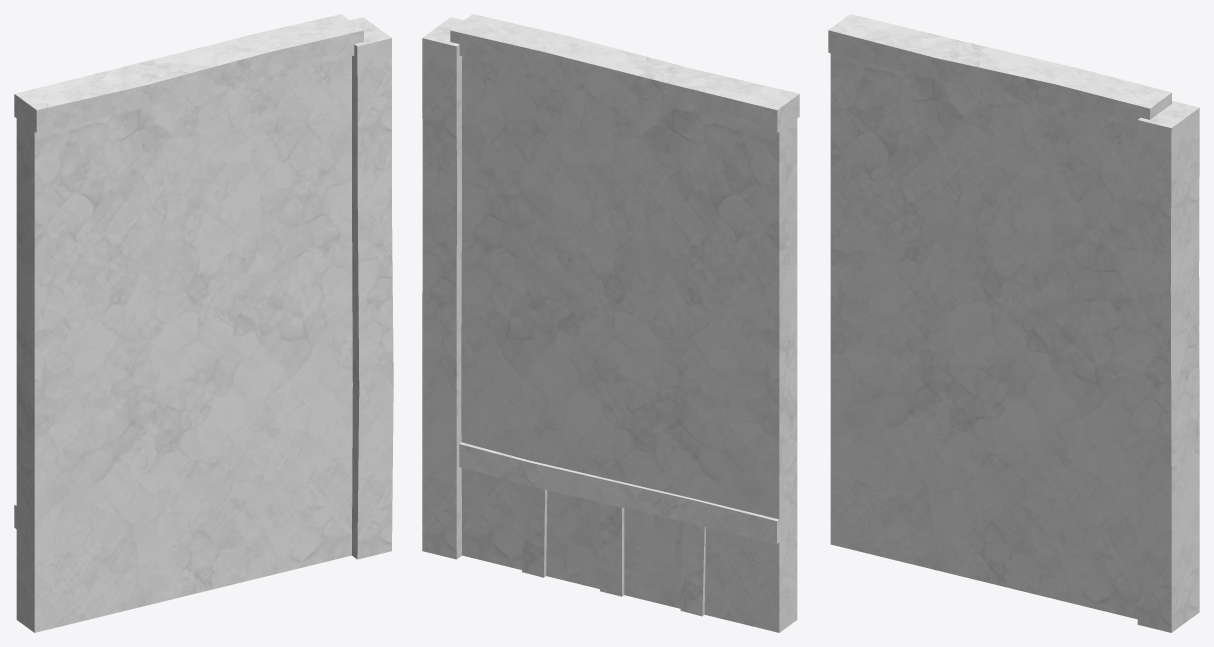
The model's file is ARC0110011.fbx.
3 views of the same model, side by side, from view 1: azimuth 30°, elevation 25°; view 2: azimuth 150°, elevation 25°; view 3: azimuth 330°, elevation 25° (orthographic).
Visible parts, largest first — view 1: smARC0110011; view 2: smARC0110011; view 3: smARC0110011.
Part boxes in pixels (left/top/right/bottom): smARC0110011: left=14, top=14, right=393, bottom=632; smARC0110011: left=422, top=14, right=799, bottom=632; smARC0110011: left=828, top=14, right=1199, bottom=632.
Bounding box in the file's own units: 246 × 350 × 35.73.
1 material, 1 textured.
